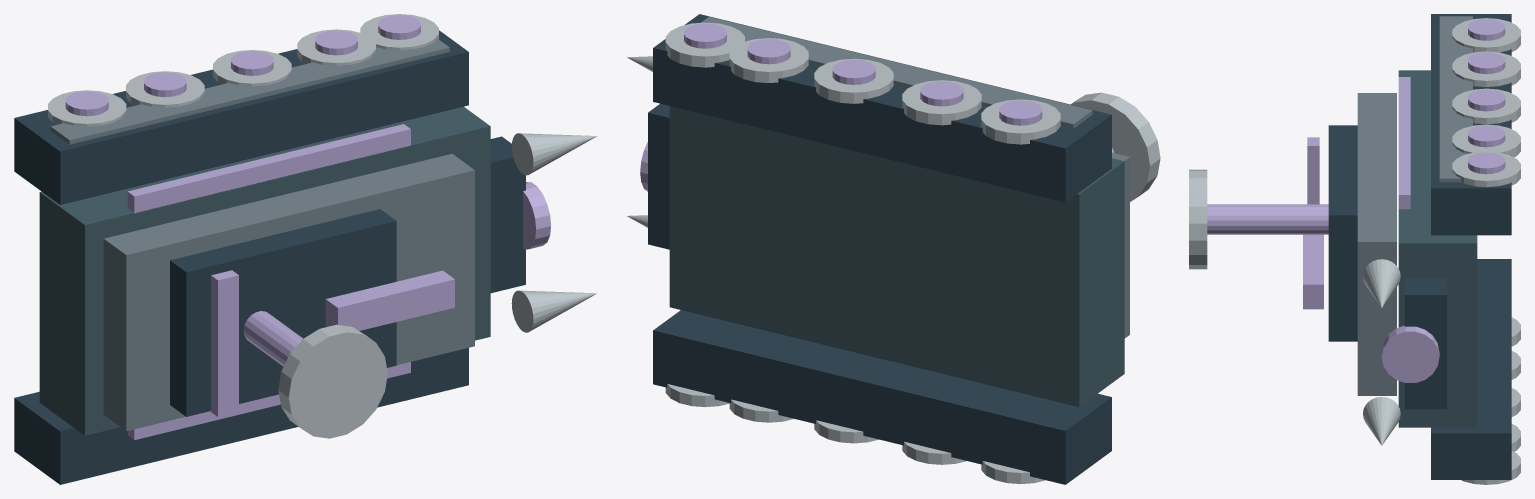
Rendered from SAFE-04.glb.
The picture shows the model from 3 angles, left to right: view 1: azimuth 30°, elevation 25°; view 2: azimuth 150°, elevation 25°; view 3: azimuth 270°, elevation 25°; orthographic projection. The views are drawn at different scales.
Parts seen in each view (by area): view 1: world; view 2: world; view 3: world.
Boxes of the visible parts, x1,y1,x2,y2 form: world: (14,14,597,484); world: (627,14,1160,484); world: (1189,14,1520,484).
Bounding box in the file's own units: 3.39 × 2.3 × 2.19.
